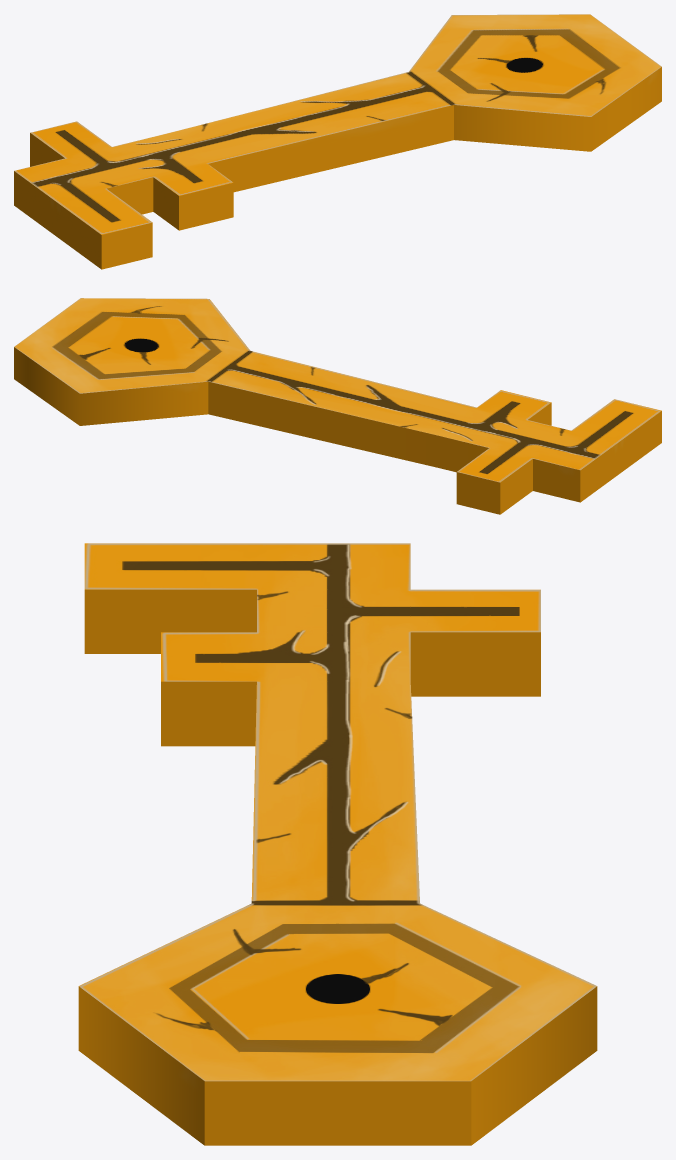
File: Key.FBX
The picture shows the model from 3 angles, top to bottom: view 1: azimuth 30°, elevation 25°; view 2: azimuth 150°, elevation 25°; view 3: azimuth 270°, elevation 25°; orthographic projection. The views are drawn at different scales.
Visible parts, largest first — view 1: Box059; view 2: Box059; view 3: Box059.
Part boxes in pixels (<box>): Box059: <box>14,14,661,269</box>; Box059: <box>14,298,661,514</box>; Box059: <box>78,543,597,1145</box>.
Size of the model in its own units: 335 by 18.98 by 136.
